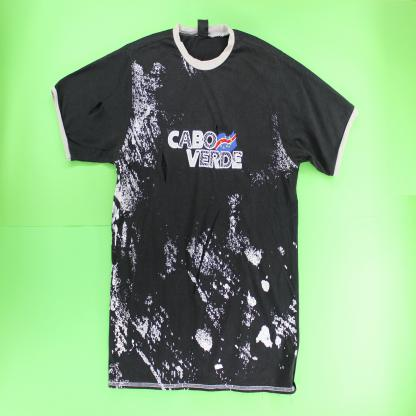hole: (192, 203, 223, 297), (86, 90, 115, 118), (161, 147, 169, 188), (212, 120, 221, 143)
